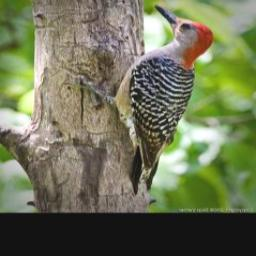Woodpecker: (60, 1, 225, 195)
